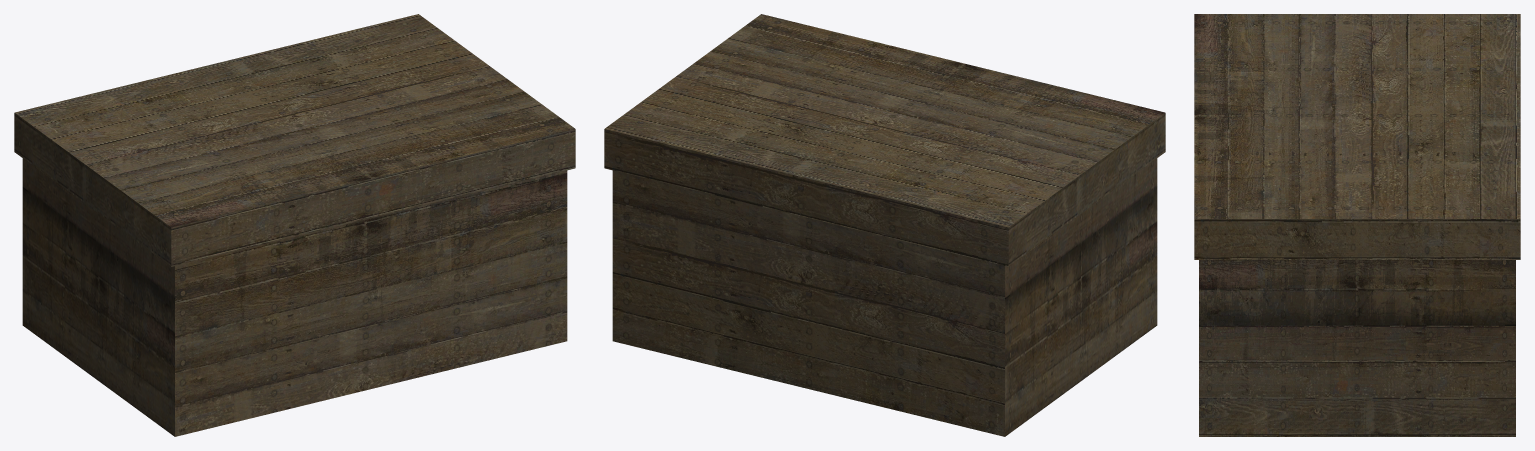
Rendered from crate_square.gltf.
3 renders of one model, left to right at view 1: azimuth 30°, elevation 25°; view 2: azimuth 150°, elevation 25°; view 3: azimuth 270°, elevation 25°, orthographic. The views are drawn at different scales.
Visible parts, largest first — view 1: Cube; view 2: Cube; view 3: Cube.
Boxes of the visible parts, left/top/right/bottom form: Cube: left=14, top=14, right=575, bottom=436; Cube: left=604, top=14, right=1165, bottom=436; Cube: left=1194, top=14, right=1520, bottom=436.
Bounding box in the file's own units: 1.58 × 0.7929 × 1.06.
Materials: 1 (1 with a texture image).
